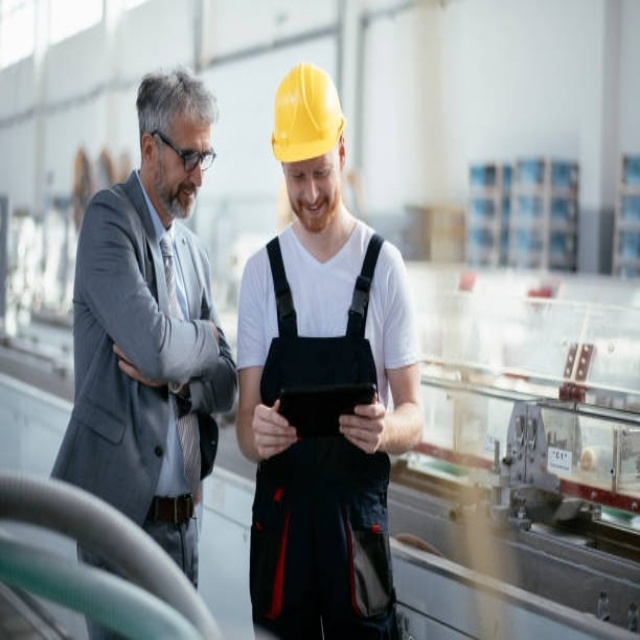Gafas: (150, 127, 218, 173)
Sin_gafas: (285, 157, 333, 185)
Sin_guantes: (250, 392, 300, 460), (336, 400, 393, 453)
Sin_mascara: (295, 196, 333, 227), (170, 184, 198, 215)
